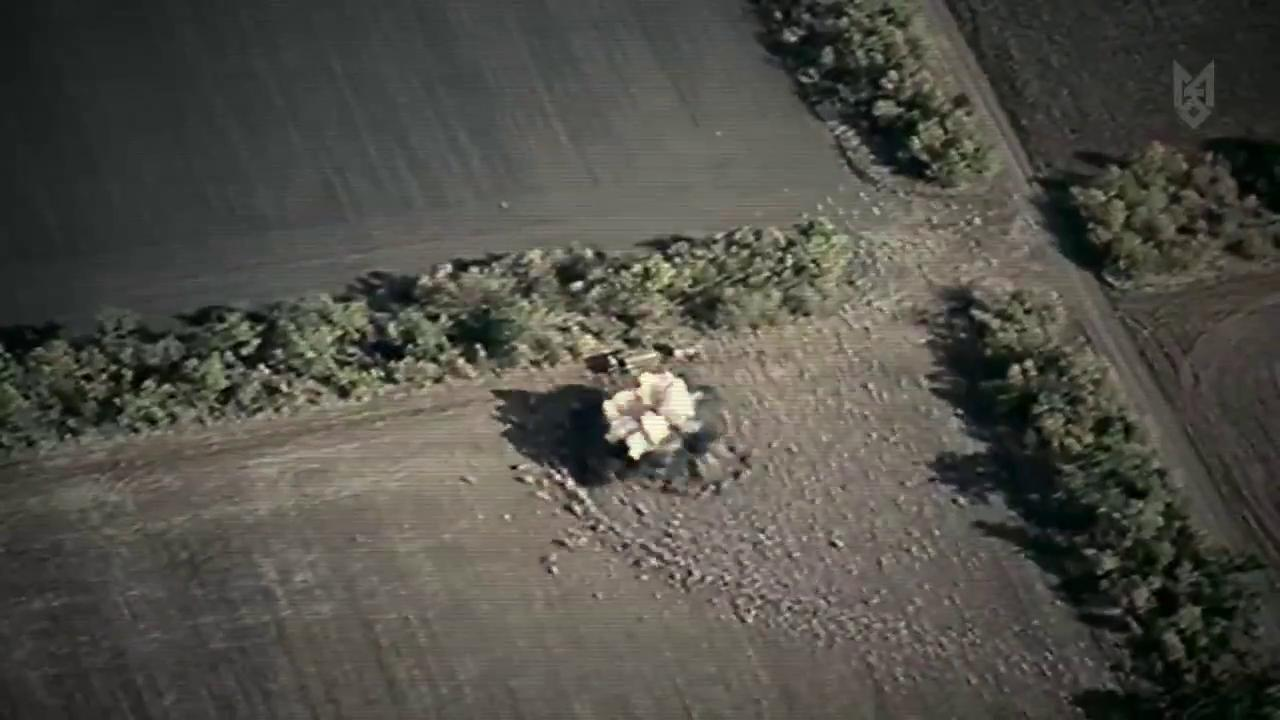tank: (599, 341, 658, 376), (666, 329, 705, 366)
